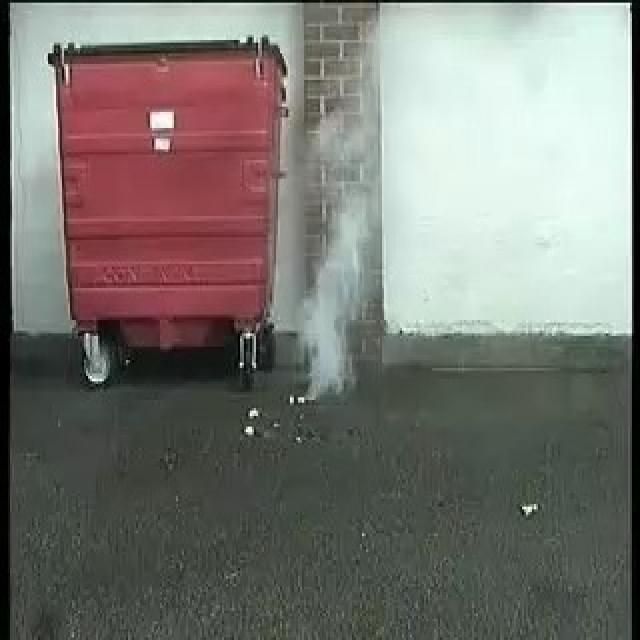smoke: (297, 90, 389, 395)
